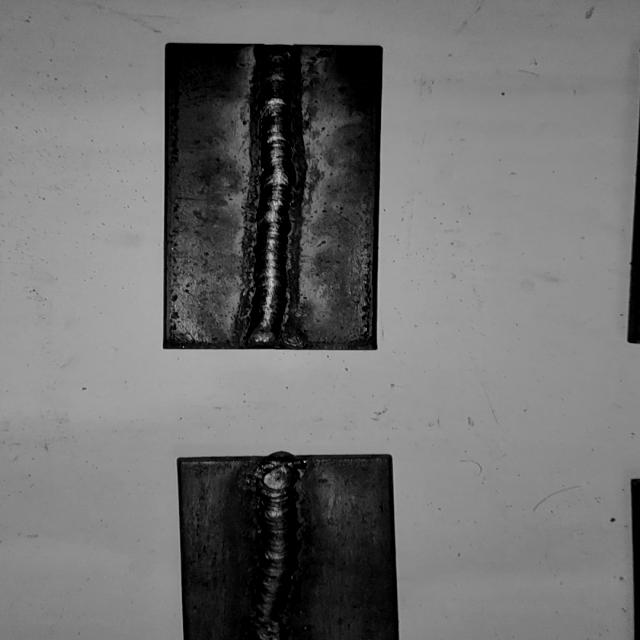Good Weld: (246, 51, 301, 344), (250, 460, 302, 639)
